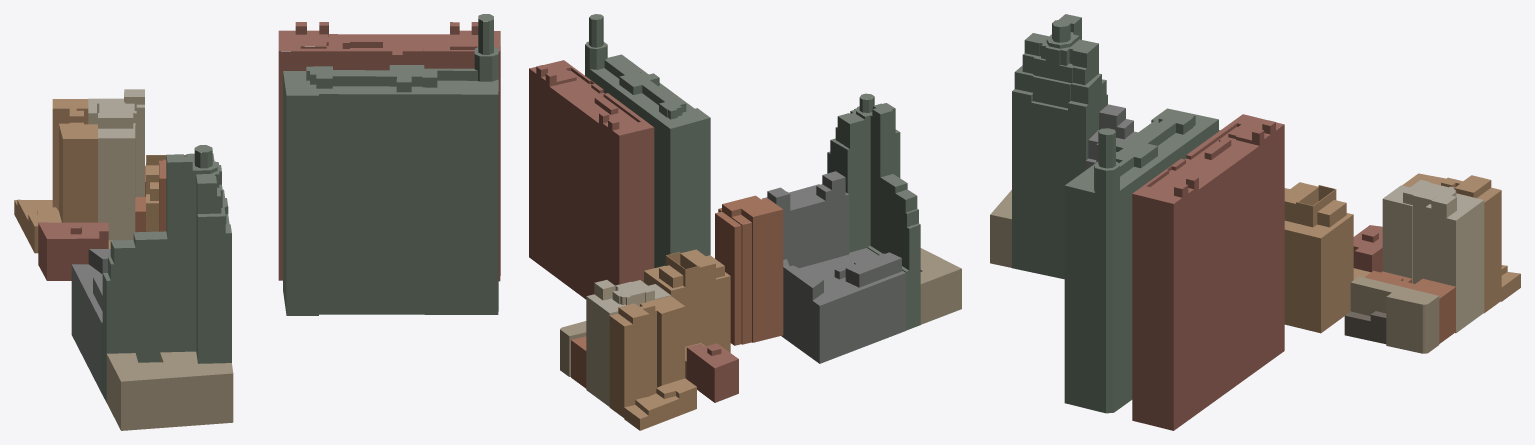
Rendered from tile--7_12.glb.
The picture shows the model from 3 angles, left to right: view 1: azimuth 30°, elevation 25°; view 2: azimuth 150°, elevation 25°; view 3: azimuth 270°, elevation 25°; orthographic projection. The views are drawn at different scales.
Visible parts, largest first — view 1: wall, roof; view 2: wall, roof; view 3: wall, roof.
Boxes of the visible parts, x1,y1,x2,y2 form: wall: (14,19,500,430); roof: (14,14,500,381); wall: (529,17,961,430); roof: (529,14,961,418); wall: (990,18,1520,430); roof: (990,14,1520,321).
Size of the model in its own units: 196 by 118 by 201.
